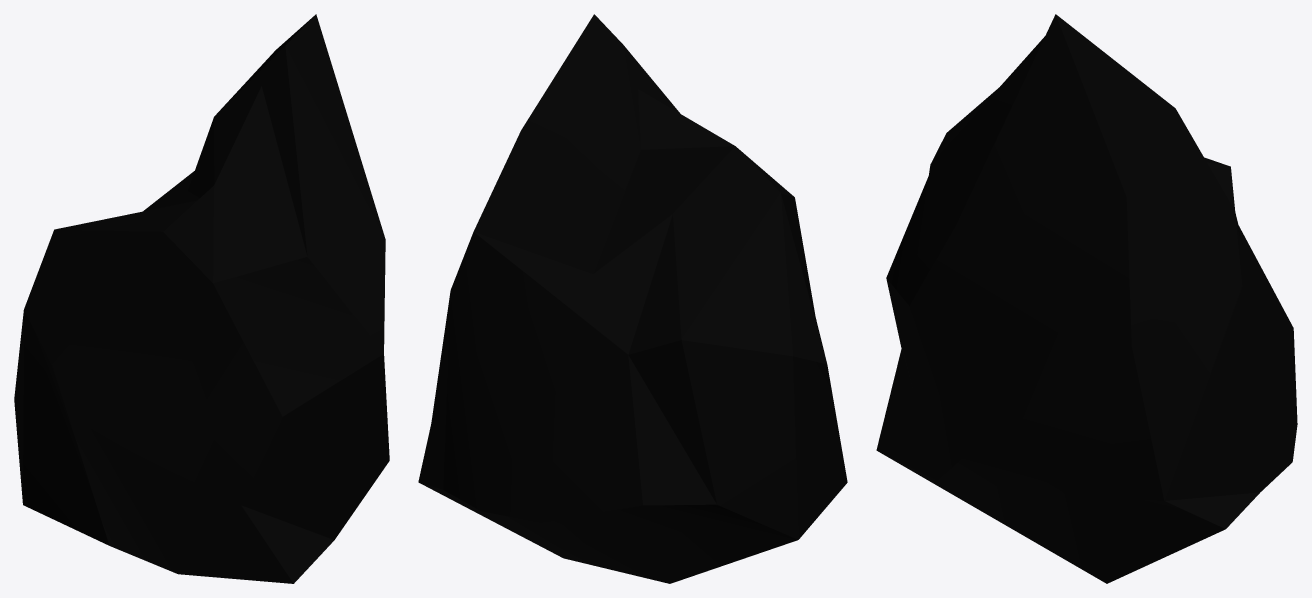
File: Stone_1b.fbx
3 views of the same model, side by side, from view 1: azimuth 30°, elevation 25°; view 2: azimuth 150°, elevation 25°; view 3: azimuth 270°, elevation 25° (orthographic). The views are drawn at different scales.
Visible parts, largest first — view 1: Stone_1b; view 2: Stone_1b; view 3: Stone_1b.
Boxes of the visible parts, left/top/right/bottom form: Stone_1b: left=14, top=14, right=389, bottom=583; Stone_1b: left=418, top=14, right=847, bottom=583; Stone_1b: left=876, top=14, right=1297, bottom=583.
Bounding box in the file's own units: 14.14 × 20.1 × 13.54.
1 material, 1 textured.
